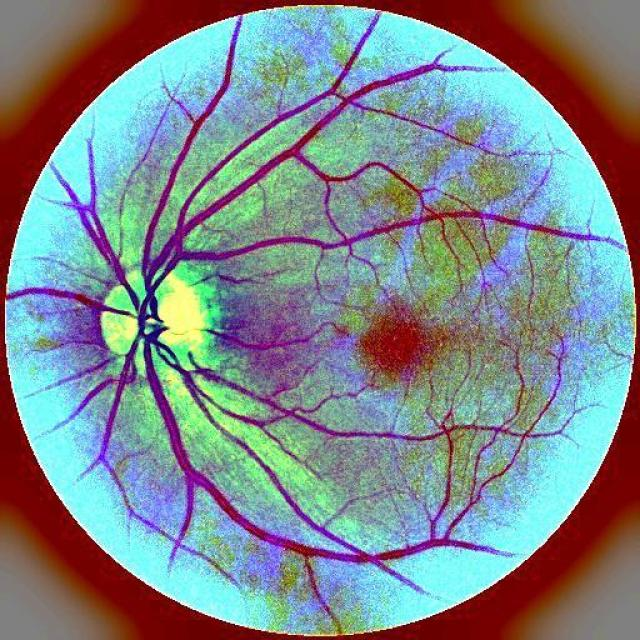Macula: (359, 310, 435, 379)
Nerves: (6, 12, 508, 591), (76, 16, 422, 471)
Optic Disk: (102, 267, 214, 378)
